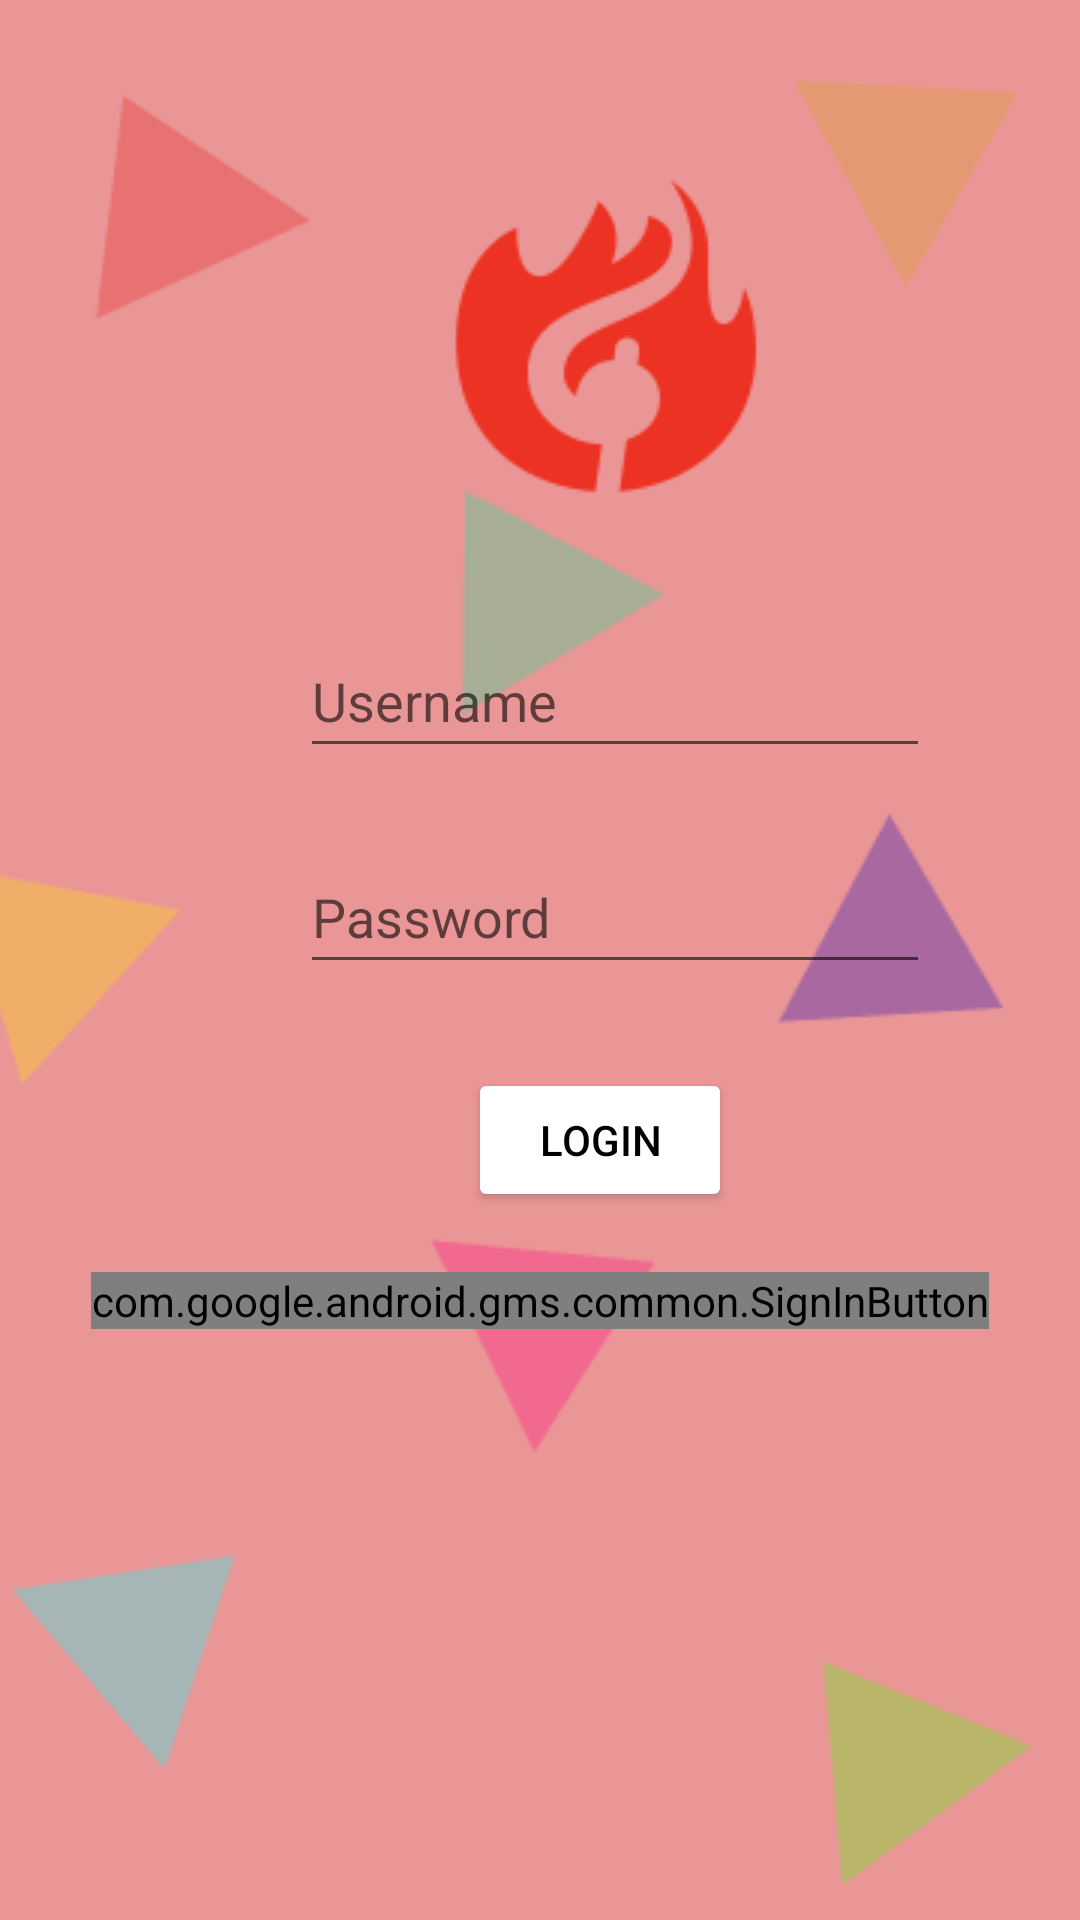

Icons on this 1080px x 1920px Android screen, each with its box as {"left": x1, "top": y1, "right": x2, "bottom": y2}:
fire: {"left": 455, "top": 181, "right": 757, "bottom": 493}
